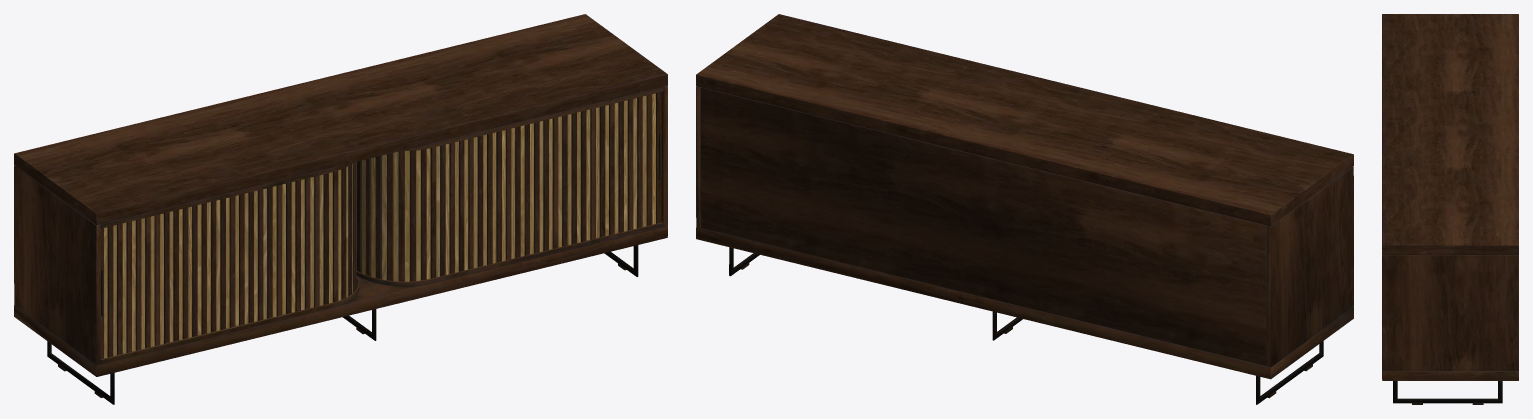
File: sideboard.glb
3 views of the same model, side by side, from view 1: azimuth 30°, elevation 25°; view 2: azimuth 150°, elevation 25°; view 3: azimuth 270°, elevation 25° (orthographic). The views are drawn at different scales.
Parts seen in each view (by area): view 1: modern_wooden_cabinet_body, modern_wooden_cabinet_door_l; view 2: modern_wooden_cabinet_body; view 3: modern_wooden_cabinet_body.
Part boxes in pixels (<box>): modern_wooden_cabinet_body: <box>14,14,667,404</box>; modern_wooden_cabinet_door_l: <box>100,92,661,358</box>; modern_wooden_cabinet_body: <box>696,14,1353,404</box>; modern_wooden_cabinet_body: <box>1382,14,1518,404</box>.
Bounding box in the file's own units: 2 × 0.6799 × 0.5001.
1 material, 1 textured.
